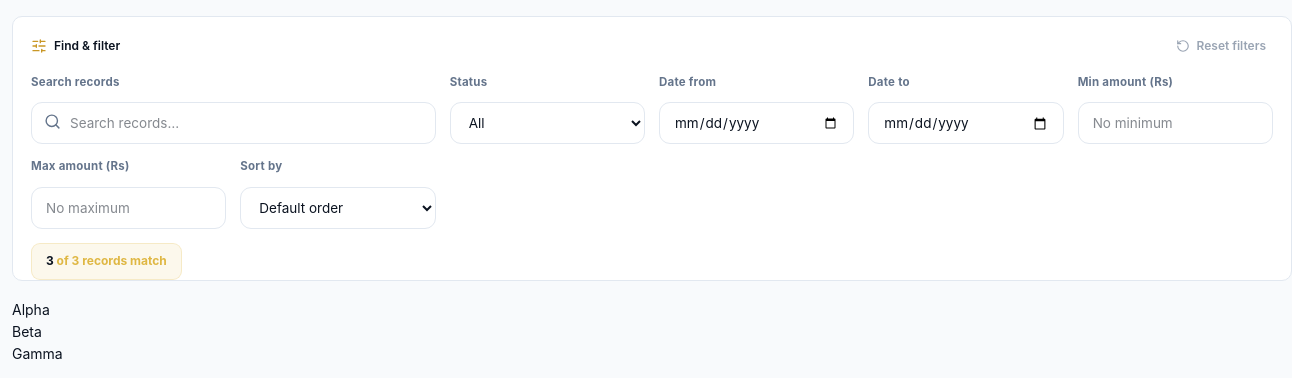
Test: record filters › intersects text, facet, inclusive date and amount filters, then resets everything
The image size is (1292, 378).
Type "  BETA " into the field labelled "Search records".
click(233, 123); type("  BETA ")  # box [31, 102, 436, 144]
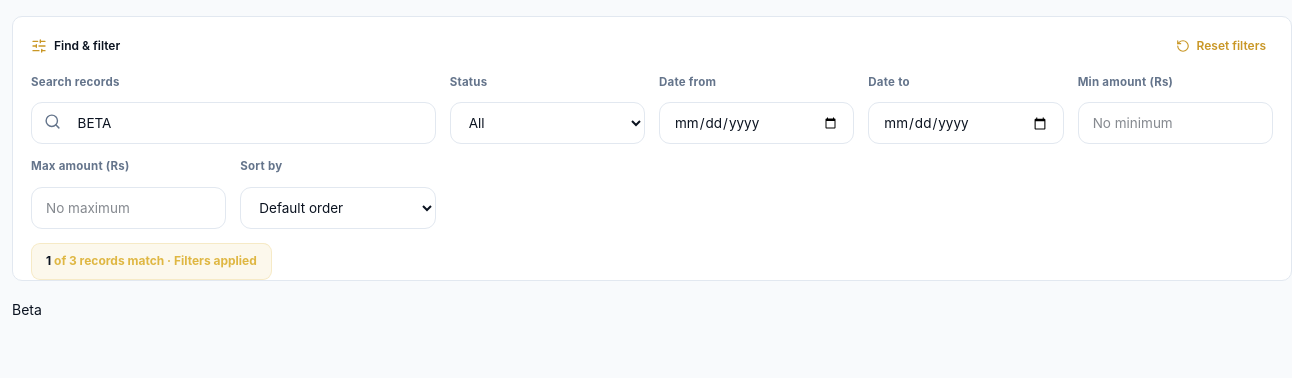
Select "Open" in the dropdown labelled "Status" at (547, 123), box [450, 102, 645, 144]
Type "2026-09-30" into the date field labelled "Date from".
click(757, 123); type("2026-09-30")  # box [659, 102, 854, 144]
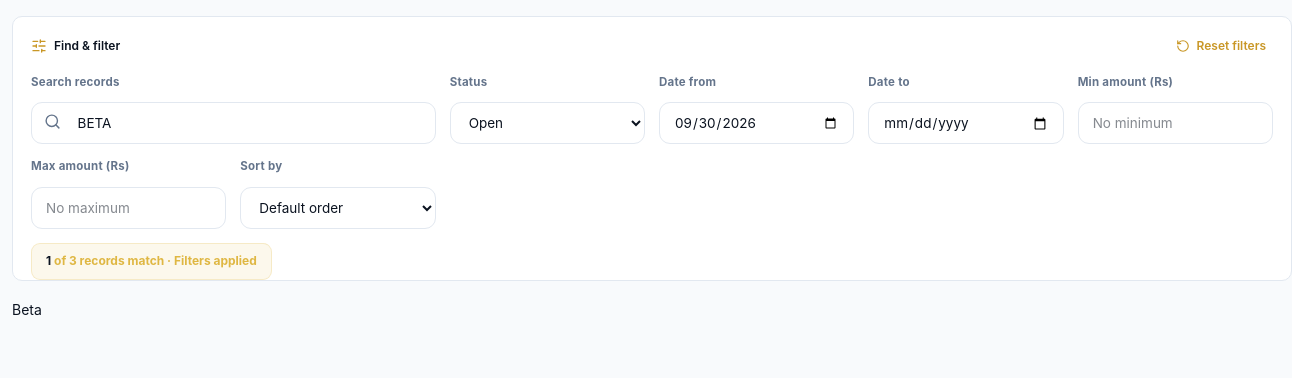
Type "2026-09-30" into the date field labelled "Date to".
click(966, 123); type("2026-09-30")  # box [868, 102, 1064, 144]
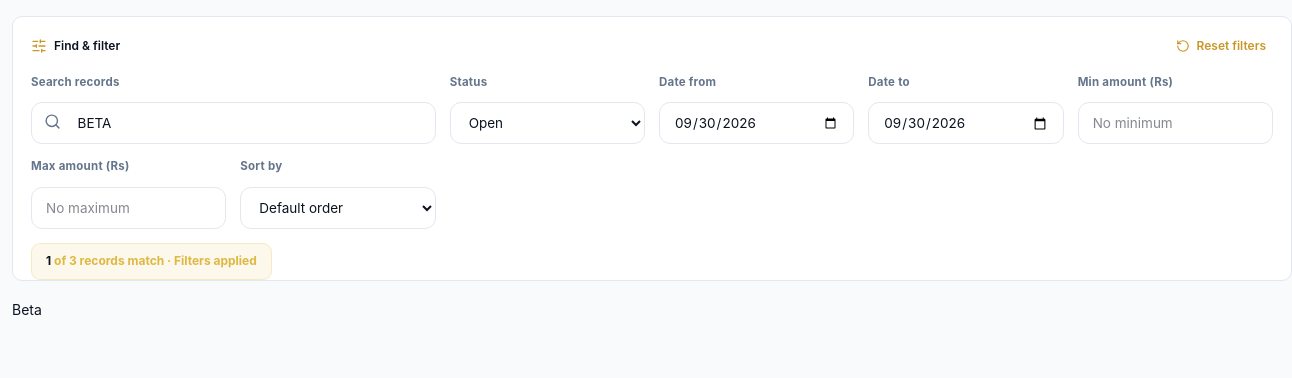
Type "300" into the number field labelled "Min amount (Rs)".
click(1175, 123); type("300")  # box [1078, 102, 1273, 144]
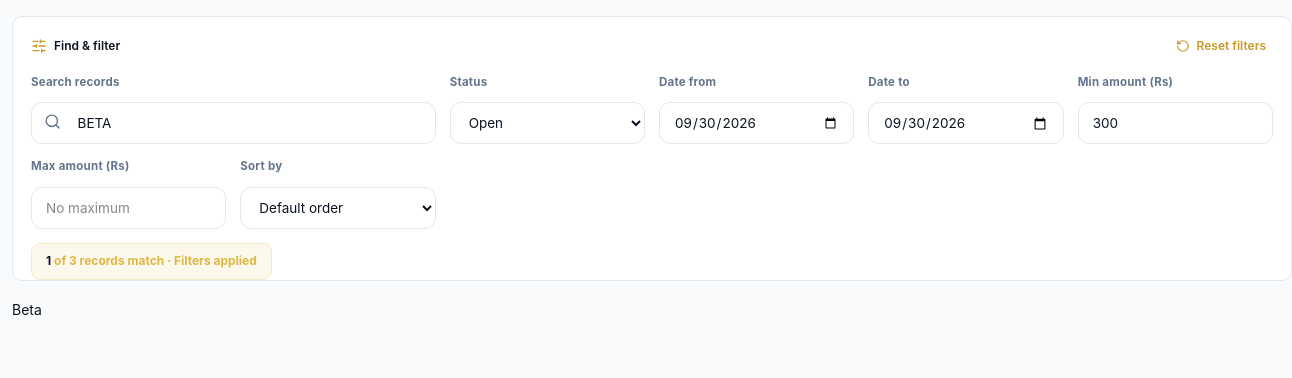
Type "300" into the number field labelled "Max amount (Rs)".
click(129, 208); type("300")  # box [31, 187, 226, 229]
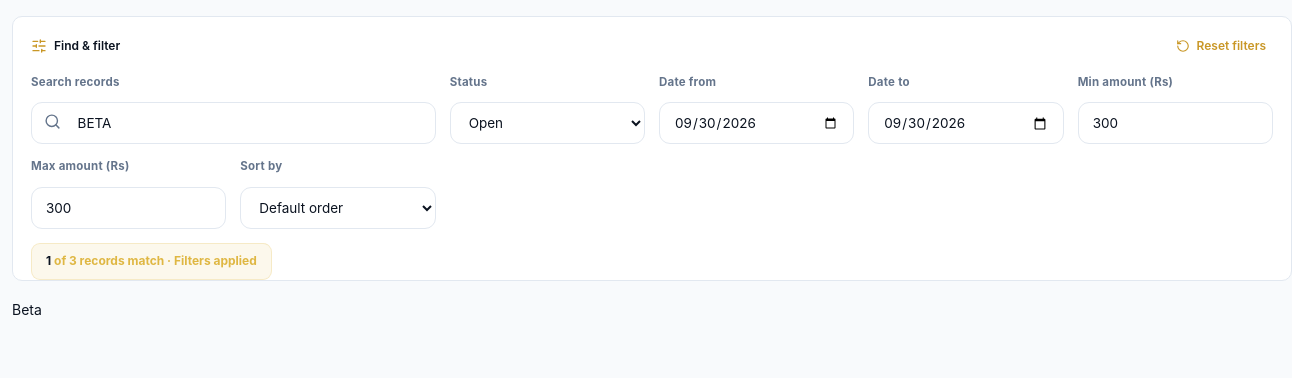
Now the list items read "Beta", in this order, box [12, 301, 42, 318]
Now the message shows "1 of 3 records match", box [31, 243, 272, 280]
Click the button "Reset filters".
click(1221, 46)  # box [1168, 33, 1273, 60]
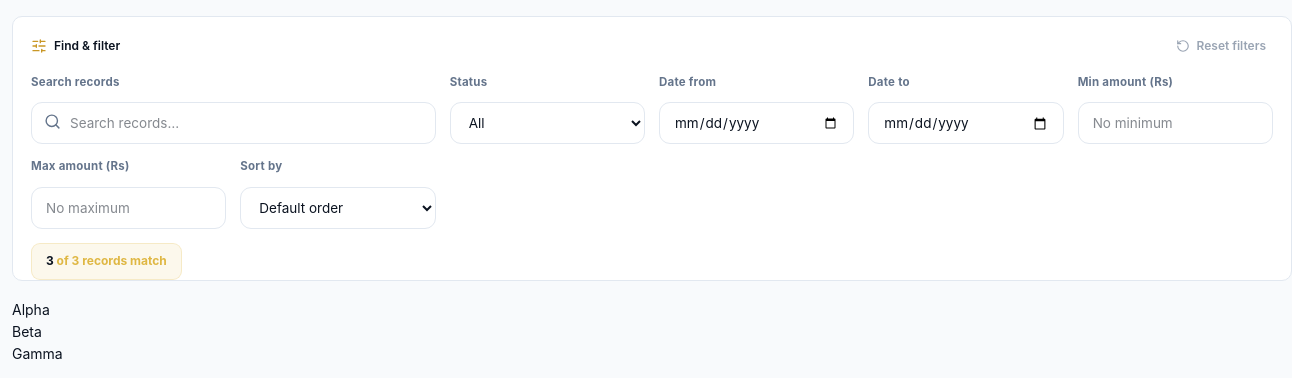
Now the number of list items is 3, box [12, 301, 50, 318]; [12, 323, 42, 340]; [12, 345, 63, 362]
Now the date field labelled "Date from" is empty, box [659, 102, 854, 144]
Now the number field labelled "Min amount (Rs)" is not empty, box [1078, 102, 1273, 144]
